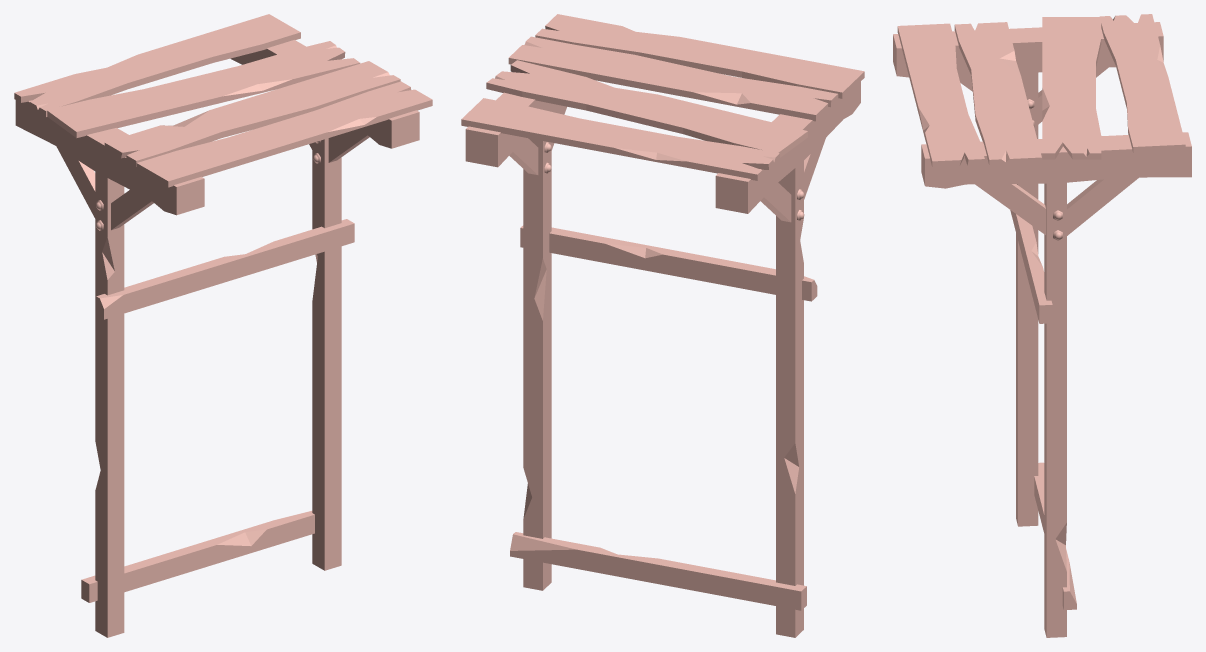
File: Mega_Asset_s_Pack_Cube_278.FBX
3 renders of one model, left to right at view 1: azimuth 30°, elevation 25°; view 2: azimuth 150°, elevation 25°; view 3: azimuth 270°, elevation 25°, orthographic. The views are drawn at different scales.
Visible parts, largest first — view 1: Mega_Asset_s_Pack_Cube_278; view 2: Mega_Asset_s_Pack_Cube_278; view 3: Mega_Asset_s_Pack_Cube_278.
Boxes of the visible parts, x1,y1,x2,y2 form: Mega_Asset_s_Pack_Cube_278: (14, 14, 432, 637); Mega_Asset_s_Pack_Cube_278: (461, 14, 864, 637); Mega_Asset_s_Pack_Cube_278: (893, 14, 1191, 637).
Size of what is drawn, in the model's own units: 491 by 421 by 765.
